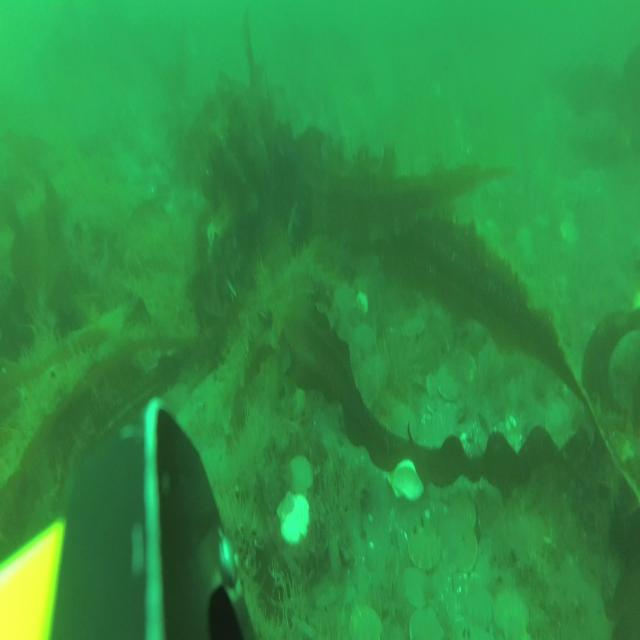scallop: (384, 448, 424, 505), (274, 491, 310, 549), (492, 588, 530, 640), (406, 525, 440, 570), (398, 566, 432, 611), (344, 603, 383, 640), (452, 527, 479, 576), (466, 584, 496, 628), (286, 456, 313, 502), (437, 356, 462, 405), (409, 606, 445, 640), (455, 491, 477, 535), (351, 320, 376, 353), (457, 348, 478, 387), (399, 314, 427, 342), (559, 218, 580, 245), (425, 367, 440, 401)
